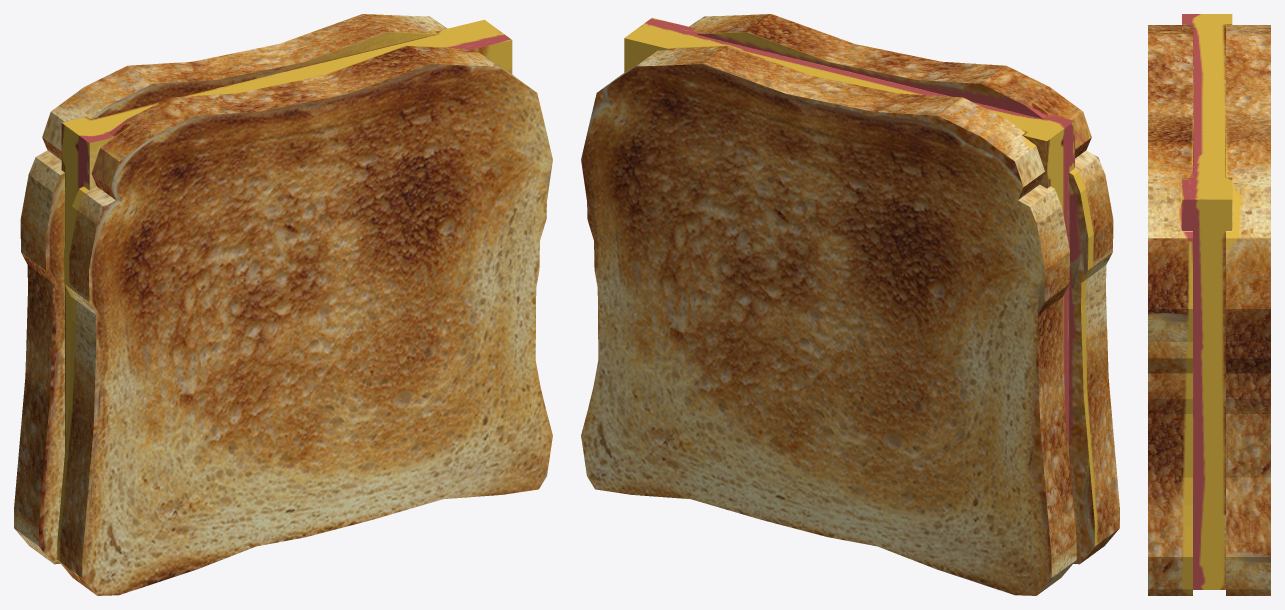
Rendered from ToastTNG.fbx.
3 renders of one model, left to right at view 1: azimuth 30°, elevation 25°; view 2: azimuth 150°, elevation 25°; view 3: azimuth 270°, elevation 25°, orthographic. The views are drawn at different scales.
Visible parts, largest first — view 1: Null_1; view 2: Null_1; view 3: Null_1.
Boxes of the visible parts, <box> form: Null_1: <box>14,14,552,595</box>; Null_1: <box>581,14,1119,595</box>; Null_1: <box>1148,14,1270,595</box>.
Bounding box in the file's own units: 8.71 × 8.15 × 2.19.
Materials: 1 (1 with a texture image).
